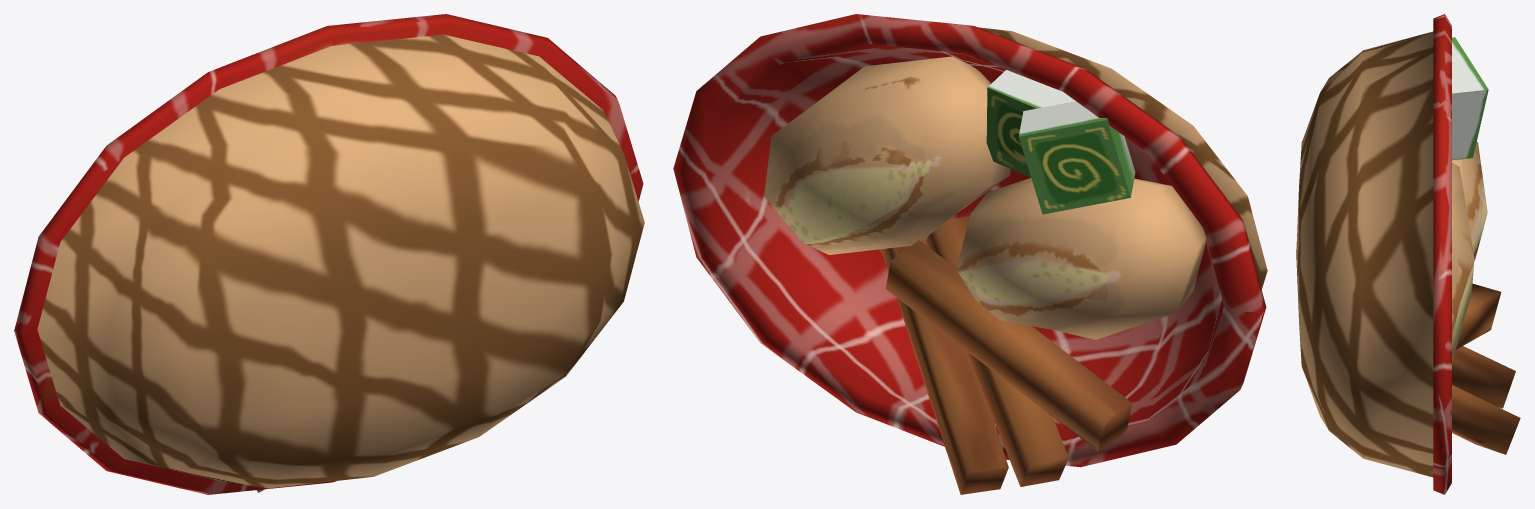
Rendered from bread.fbx.
3 renders of one model, left to right at view 1: azimuth 30°, elevation 25°; view 2: azimuth 150°, elevation 25°; view 3: azimuth 270°, elevation 25°, orthographic. The views are drawn at different scales.
Visible parts, largest first — view 1: bread basket; view 2: bread basket; view 3: bread basket.
Part boxes in pixels (bbox=[...]): bread basket: bbox=[14, 14, 644, 494]; bread basket: bbox=[673, 14, 1267, 494]; bread basket: bbox=[1296, 14, 1520, 494].
Size of the model in its own units: 39.94 by 28.48 by 13.94.
